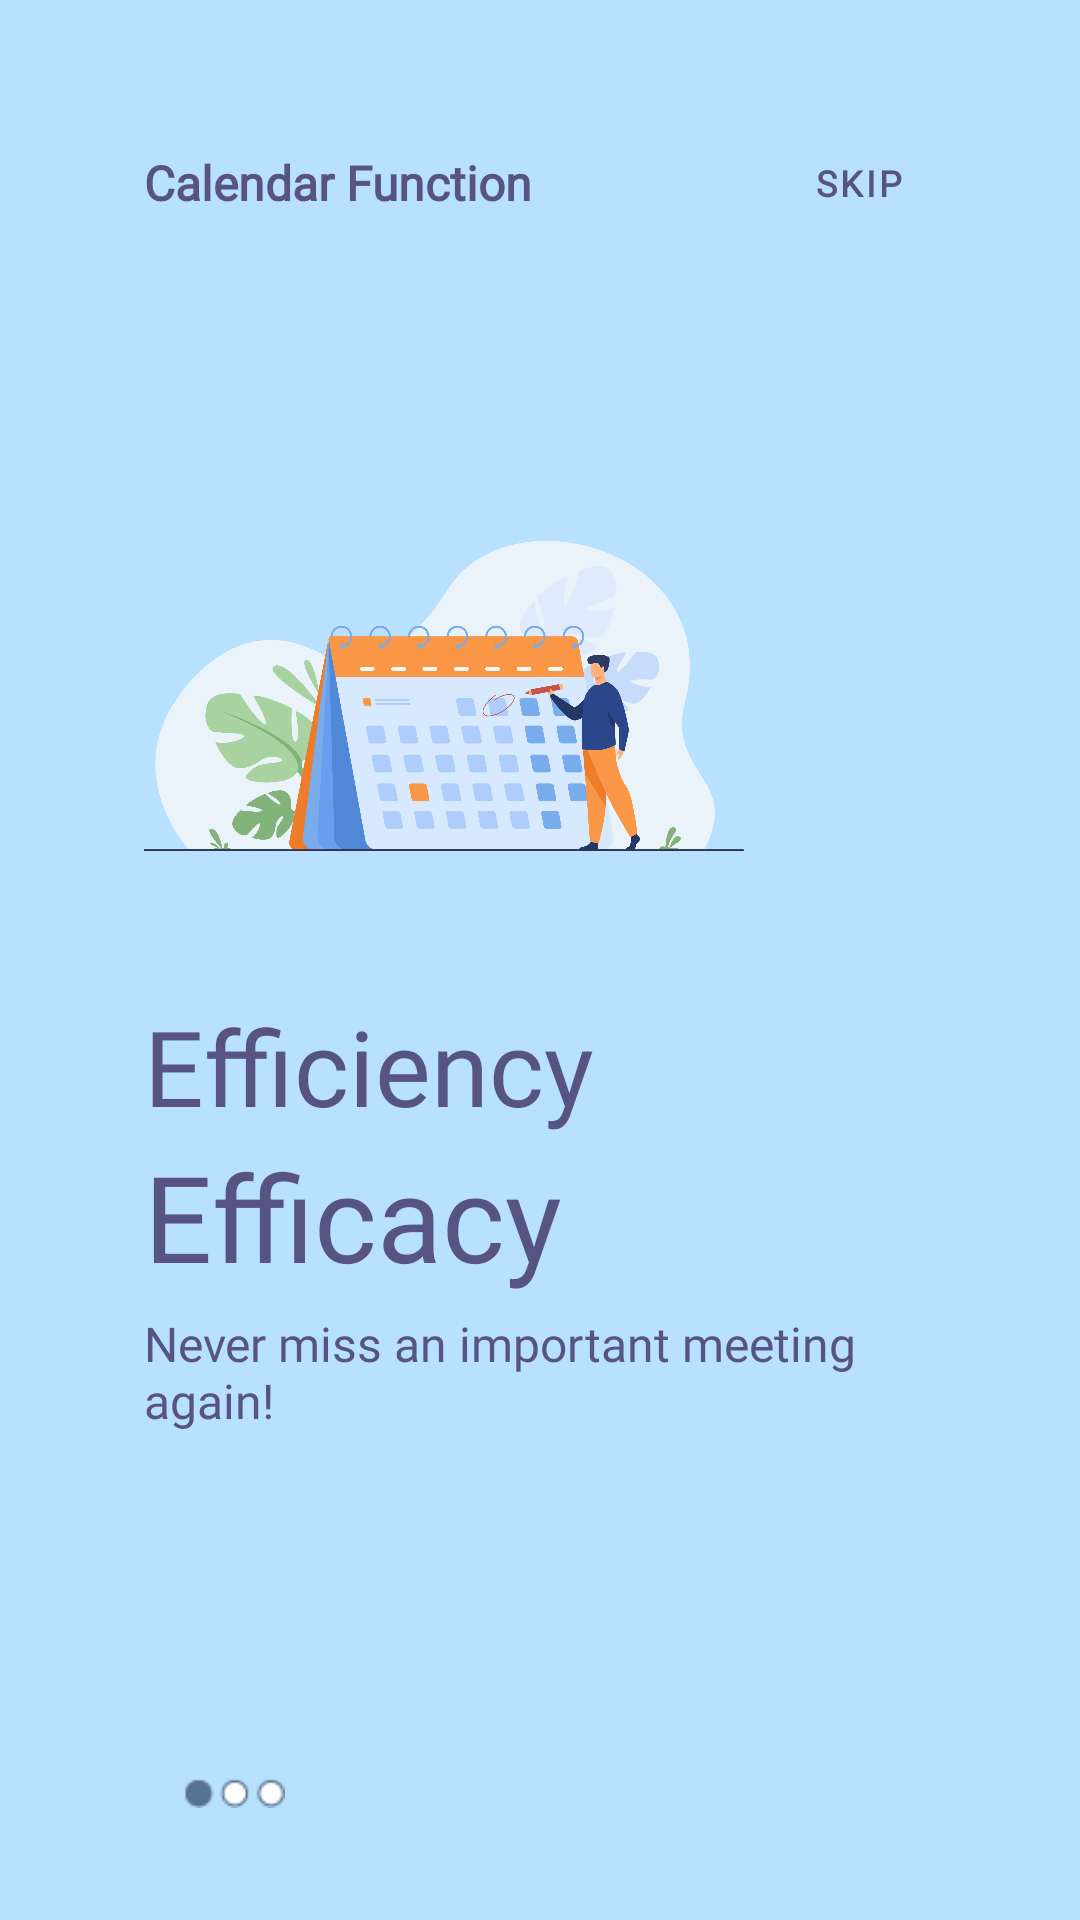

Screen size 1080 × 1920. Icon name, then its center in pixels as (x=x, y=y):
tab: (x=235, y=1794)
